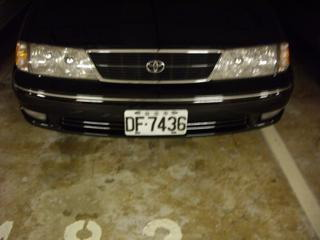plate: (122, 108, 190, 136)
